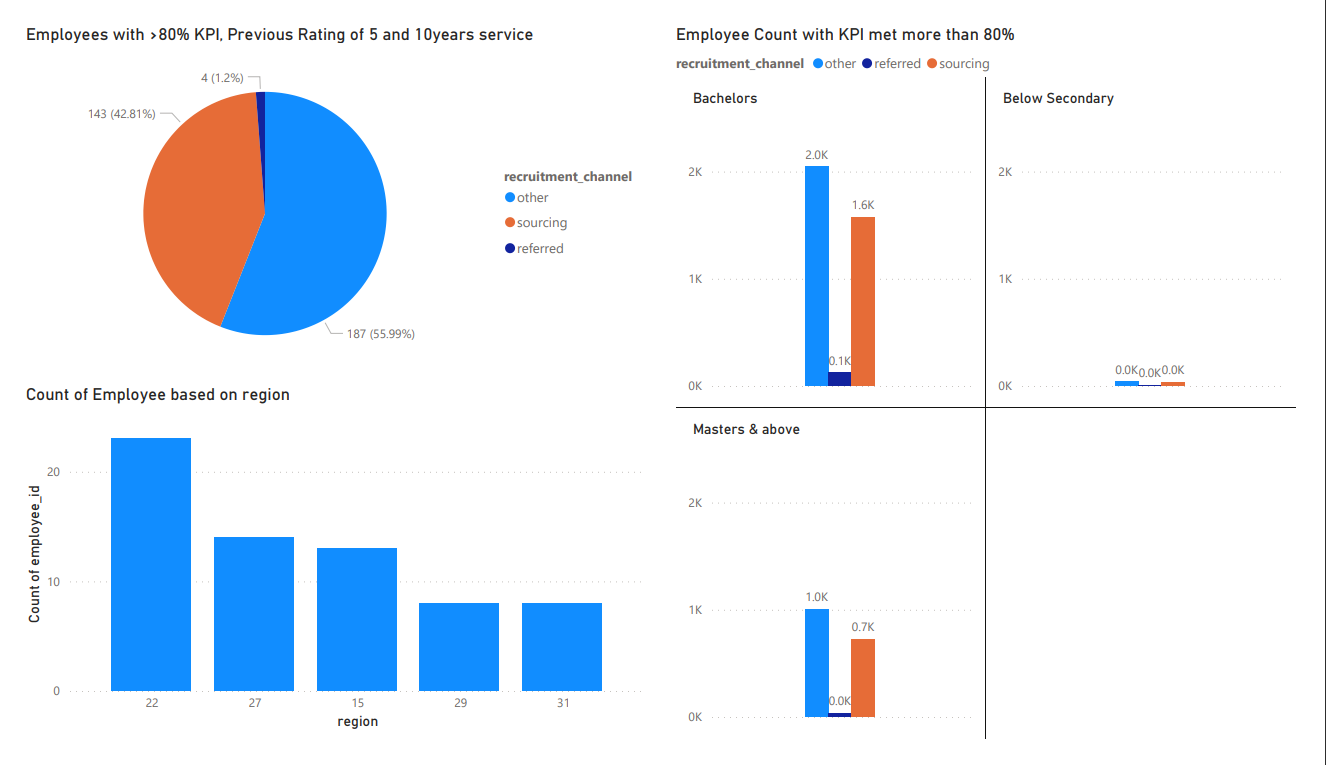

The dashboard page shown, as its layout file describes it:
{"tool":"powerbi","page":{"name":"Performance : KPI","canvas":[1280,720],"ordinal":1},"visuals":[{"type":"clusteredColumnChart","title":"Employee Count with KPI met more than 80%","fields":{"Y":["CountNonNull(cleaned_dataset.employee_id)"],"Series":["cleaned_dataset.recruitment_channel"],"Category":["cleaned_dataset.education"],"Rows":["cleaned_dataset.education"]},"box":[649.7,0,630.3,719.8],"z":0},{"type":"clusteredColumnChart","title":"Count of Employee based on region","fields":{"Category":["cleaned_dataset.region"],"Y":["CountNonNull(cleaned_dataset.employee_id)"]},"box":[0,359.9,630.3,350.2],"z":1000},{"type":"pieChart","title":"Employees with >80% KPI, Previous Rating of 5 and 10years service","fields":{"Category":["cleaned_dataset.recruitment_channel"],"Y":["CountNonNull(cleaned_dataset.employee_id)"]},"box":[0,0,630.3,359.9],"z":2000}]}

Visuals, with their boxes in screenshot pixels (x1, y1, x2, y2), scaled from the page's 1280x720 canvas onto the 1326x765 screenshot:
"Employee Count with KPI met more than 80%" clusteredColumnChart: bbox=(673, 0, 1325, 764)
"Count of Employee based on region" clusteredColumnChart: bbox=(0, 382, 653, 754)
"Employees with >80% KPI, Previous Rating of 5 and 10years service" pieChart: bbox=(0, 0, 653, 382)
